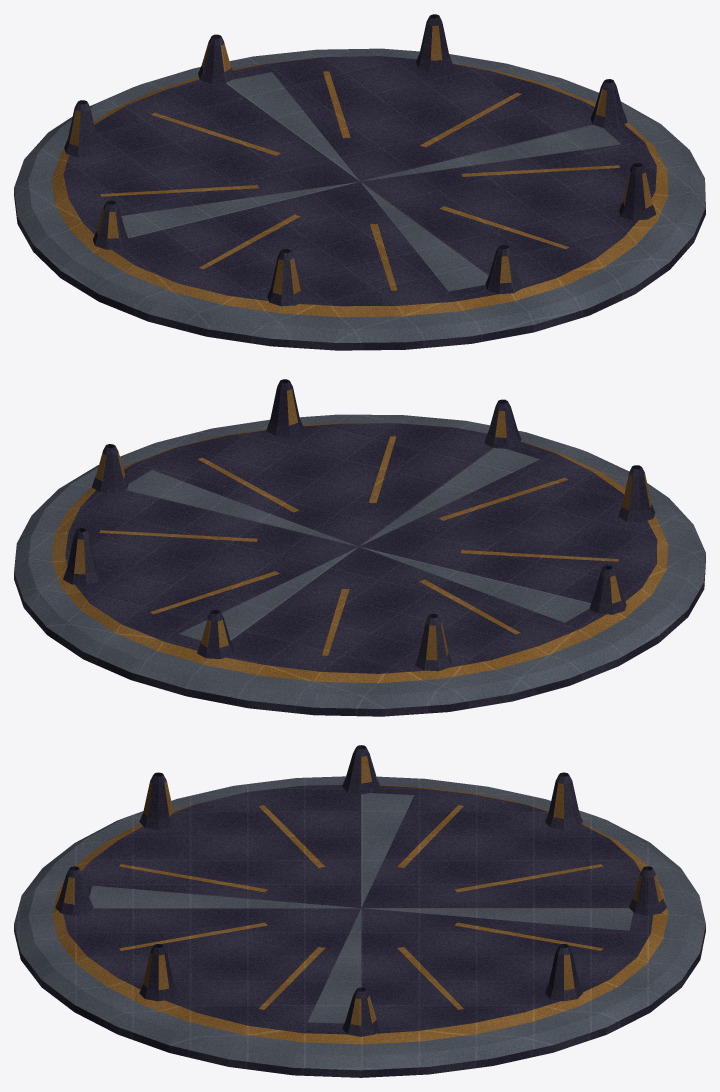
The model's file is VF_NEXUS_CITADEL_DAIS.obj.
3 views of the same model, one above another, from view 1: azimuth 30°, elevation 25°; view 2: azimuth 150°, elevation 25°; view 3: azimuth 270°, elevation 25° (orthographic).
Visible parts, largest first — view 1: object 3, VF_NEXUS_PERIMETER_BUTTRESSES, VF_NEXUS_COURTYARD_RELIEFS; view 2: object 3, VF_NEXUS_PERIMETER_BUTTRESSES, VF_NEXUS_COURTYARD_RELIEFS; view 3: object 3, VF_NEXUS_PERIMETER_BUTTRESSES, VF_NEXUS_COURTYARD_RELIEFS.
Part boxes in pixels (box(x1,y1,x2,y2)): object 3: box(14, 48, 705, 350); VF_NEXUS_PERIMETER_BUTTRESSES: box(64, 14, 656, 306); VF_NEXUS_COURTYARD_RELIEFS: box(100, 71, 619, 290); object 3: box(14, 414, 705, 716); VF_NEXUS_PERIMETER_BUTTRESSES: box(63, 379, 655, 671); VF_NEXUS_COURTYARD_RELIEFS: box(99, 436, 618, 655); object 3: box(14, 776, 705, 1077); VF_NEXUS_PERIMETER_BUTTRESSES: box(55, 745, 666, 1036); VF_NEXUS_COURTYARD_RELIEFS: box(119, 805, 603, 1009).
Size of the model in its own units: 21.6 by 2.45 by 21.6.
Materials: 3 (3 with a texture image).
